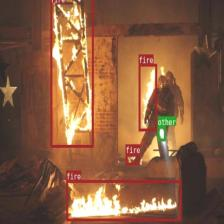fire: (50, 0, 93, 147), (66, 179, 181, 221), (138, 64, 157, 131), (125, 153, 140, 165)
